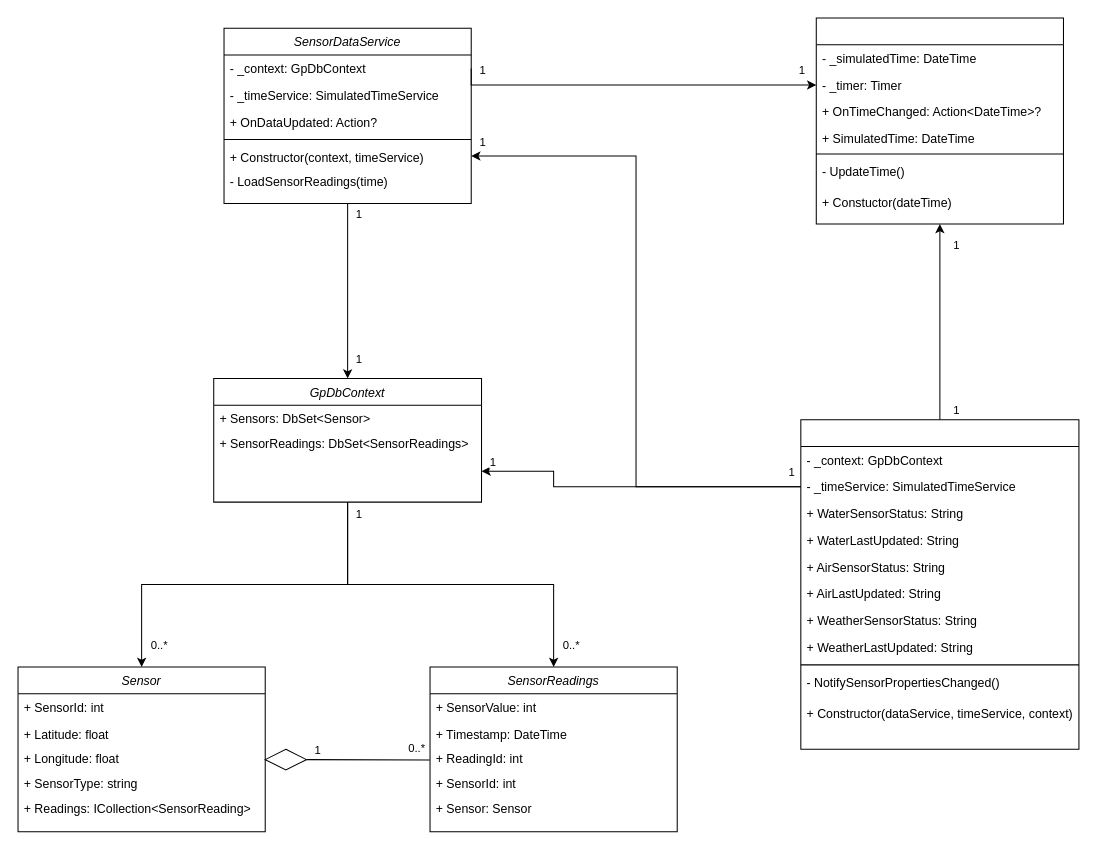
Image size: 1097x853. Some labels were removed from this diagram. The box of each missing label's shape, as (x1, y1, x2, y2) in pixels:
AllSensorsViewModel: (800, 419, 1079, 749)
SimulatedTimeSystem: (815, 17, 1063, 224)
